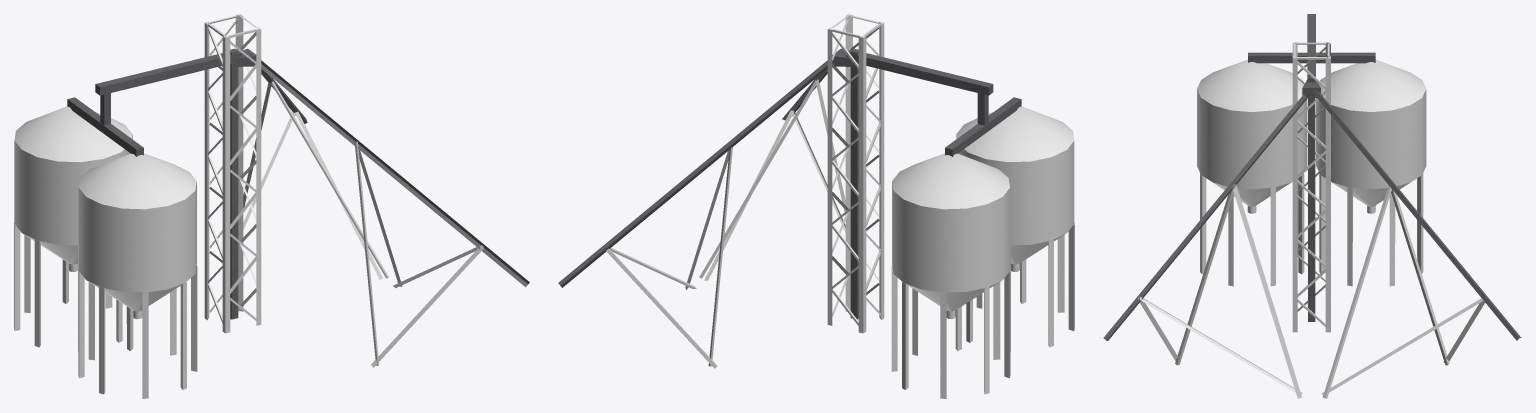
File: grain-silo-hopper-loader-cbj_LOD01.gltf
3 views of the same model, side by side, from view 1: azimuth 30°, elevation 25°; view 2: azimuth 150°, elevation 25°; view 3: azimuth 270°, elevation 25° (orthographic). The views are drawn at different scales.
Visible parts, largest first — view 1: grain-silo01; view 2: grain-silo01; view 3: grain-silo01.
Boxes of the visible parts, box(x1,y1,x2,y2) form: grain-silo01: box(14, 14, 529, 398); grain-silo01: box(558, 14, 1074, 398); grain-silo01: box(1103, 14, 1521, 398).
Bounding box in the file's own units: 45.79 × 36.7 × 49.12.
